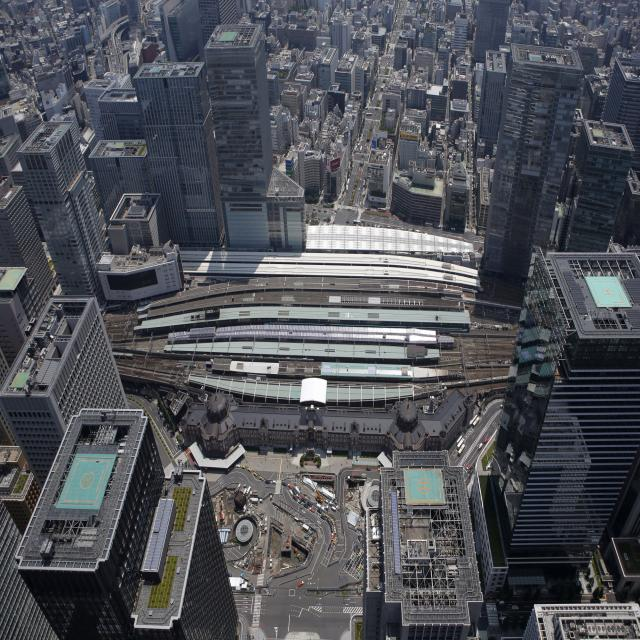helipad: (79, 470, 95, 490), (416, 475, 431, 495), (601, 286, 614, 297), (5, 273, 15, 283), (16, 374, 24, 384)
